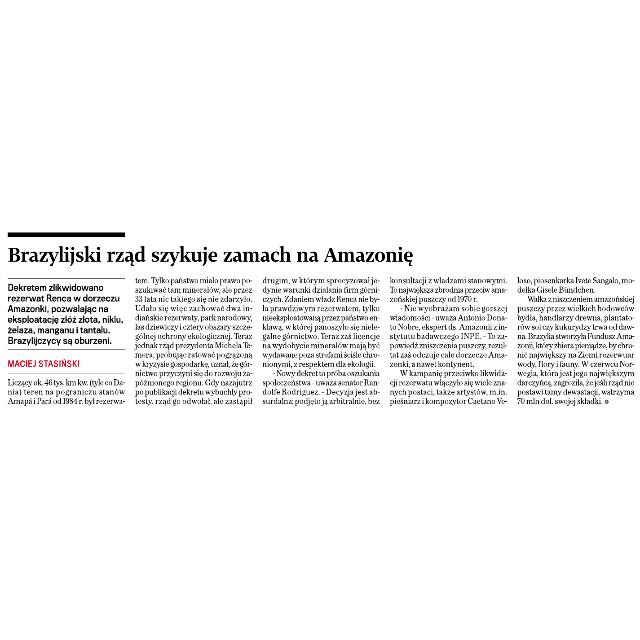author: (5, 354, 85, 370)
body: (258, 274, 384, 408), (512, 273, 638, 407), (387, 274, 509, 408), (133, 276, 255, 408), (4, 376, 130, 408)
lead: (5, 280, 126, 348)
title: (6, 239, 428, 269)
